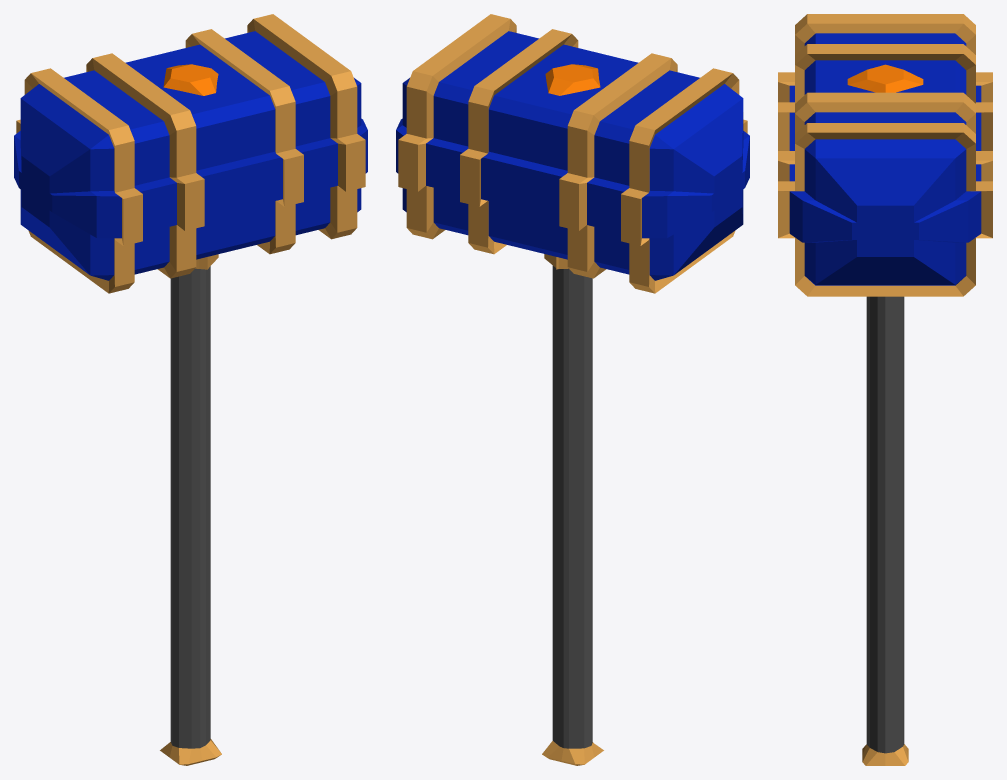
Rendered from TeamSigmarPaladins_Hammer blue.fbx.
3 views of the same model, side by side, from view 1: azimuth 30°, elevation 25°; view 2: azimuth 150°, elevation 25°; view 3: azimuth 270°, elevation 25° (orthographic).
Parts seen in each view (by area): view 1: Cube.019; view 2: Cube.019; view 3: Cube.019.
Boxes of the visible parts, left/top/right/bottom form: Cube.019: left=14, top=14, right=367, bottom=765; Cube.019: left=396, top=14, right=749, bottom=765; Cube.019: left=778, top=14, right=992, bottom=765.
Size of the model in its own units: 164 by 345 by 98.12.
